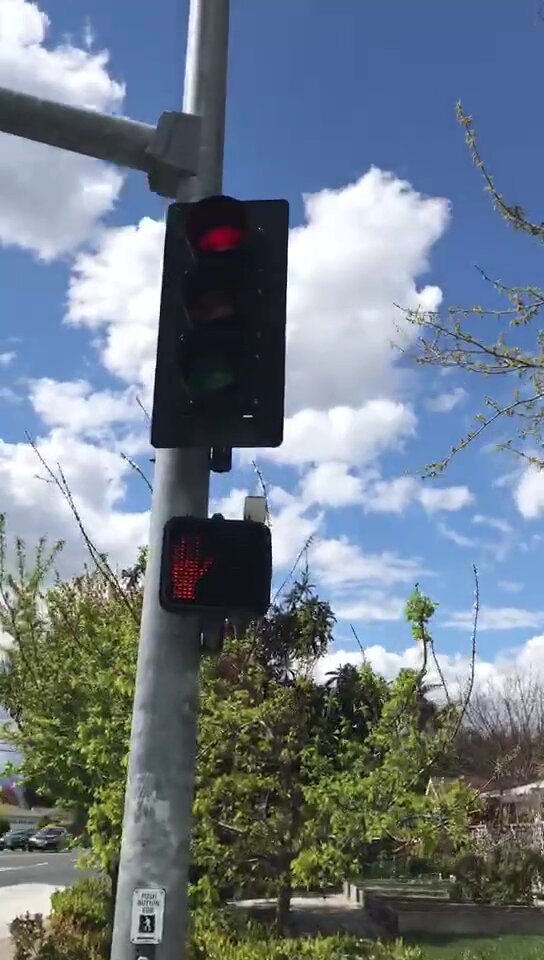red_light: (171, 200, 281, 447)
